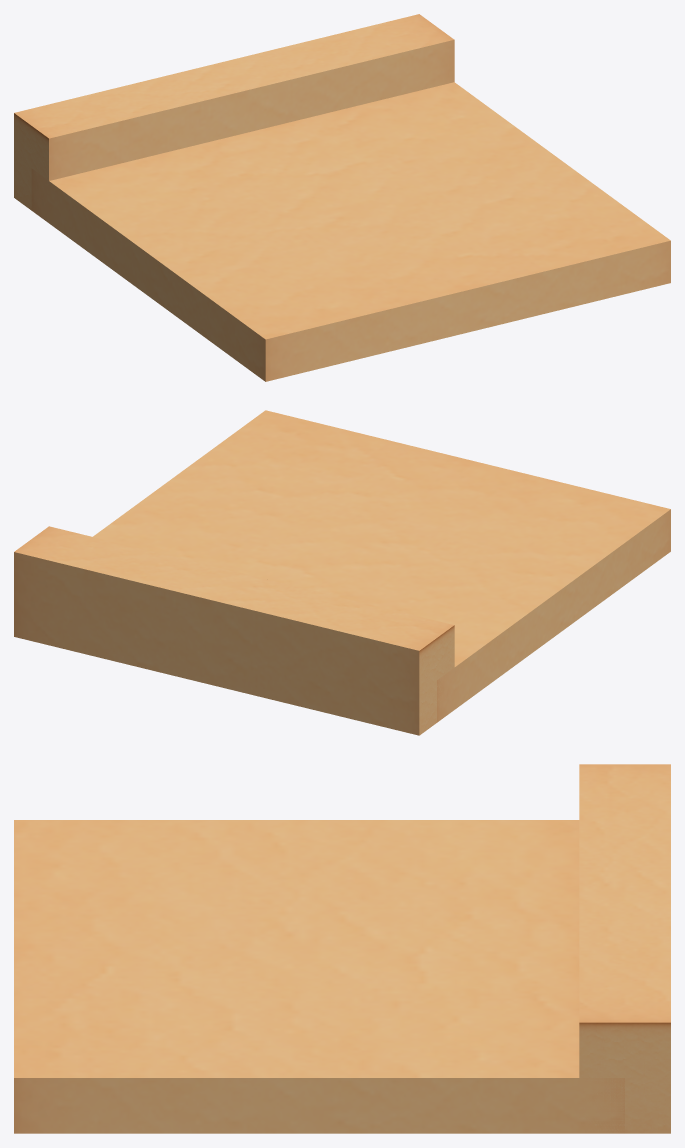
The model's file is Sidewalk_Tile.fbx.
3 views of the same model, one above another, from view 1: azimuth 30°, elevation 25°; view 2: azimuth 150°, elevation 25°; view 3: azimuth 270°, elevation 25° (orthographic). The views are drawn at different scales.
Visible parts, largest first — view 1: Sidewalk_Tile; view 2: Sidewalk_Tile; view 3: Sidewalk_Tile.
Boxes of the visible parts, x1,y1,x2,y2 form: Sidewalk_Tile: (14,14,670,381); Sidewalk_Tile: (14,410,670,735); Sidewalk_Tile: (14,764,670,1133).
Size of the model in its own units: 1 by 0.2 by 1.08.
